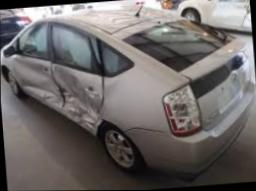Door: (14, 21, 104, 136)
